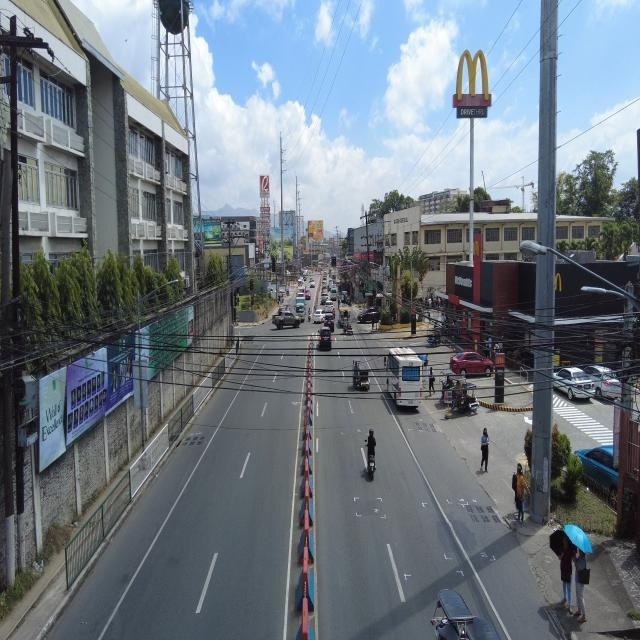Bus: (379, 342, 431, 414)
Motorcycle: (364, 424, 384, 482)
